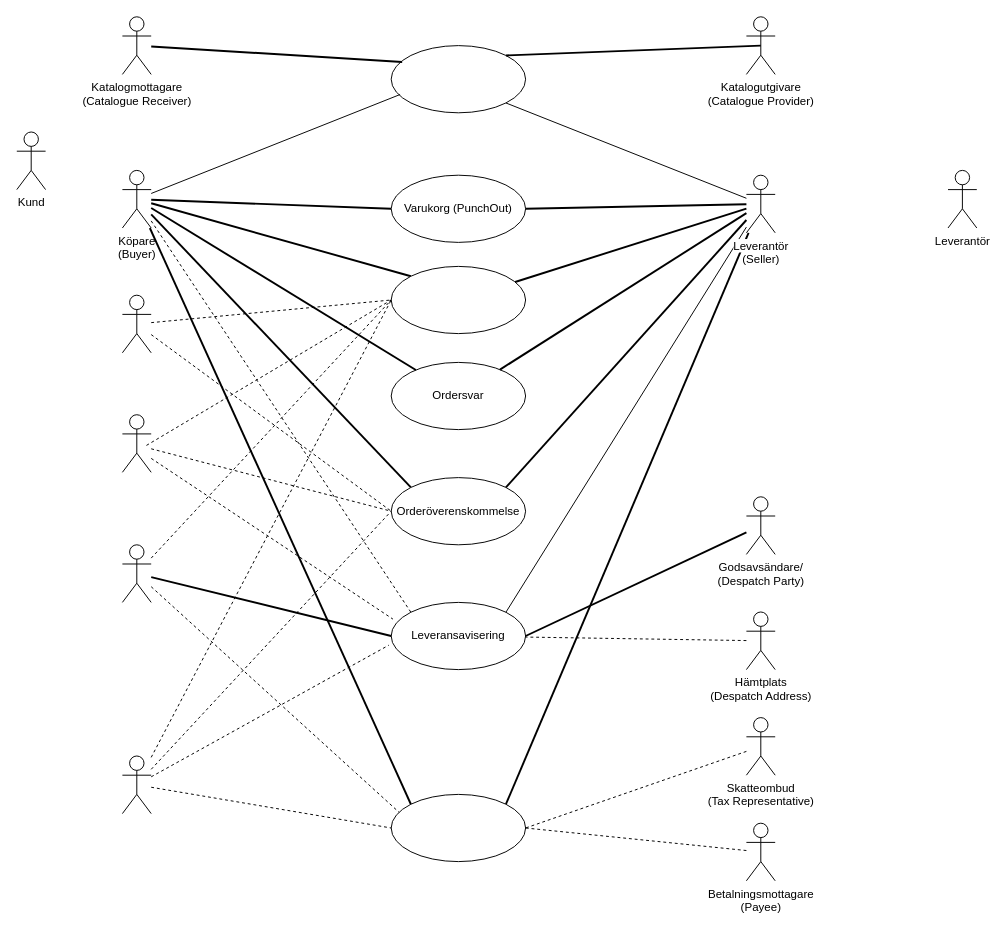
This 1006x932 diagram has some shape labels left out. Each missing label, with the centre of its shape:
"Beställare (Originator)" belongs at [136,443].
"Faktura" belongs at [458,827].
"Fakturaadressat (Invoicee)" belongs at [136,323].
"Katalog" belongs at [458,79].
"Leveransmottagare (Consignee)" belongs at [136,573].
"Order" belongs at [458,299].
"Slutmottagare (Delivery party)" belongs at [136,784].
